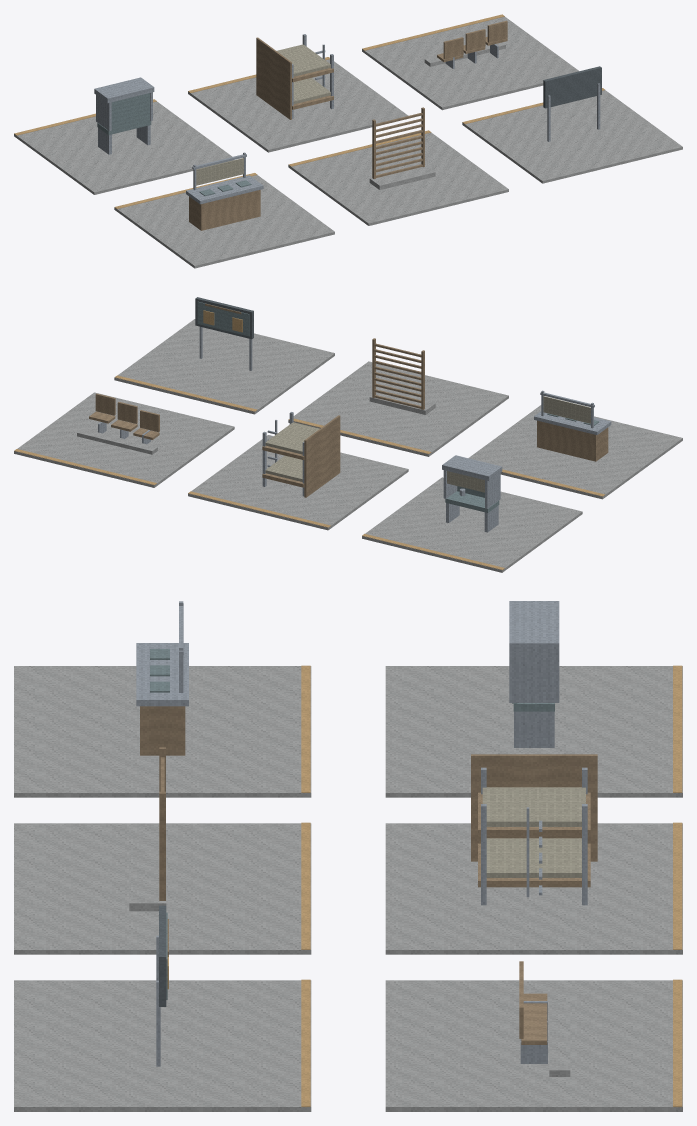
File: level_blockout_kit_college_p02.glb
3 views of the same model, one above another, from view 1: azimuth 30°, elevation 25°; view 2: azimuth 150°, elevation 25°; view 3: azimuth 270°, elevation 25° (orthographic). The views are drawn at different scales.
Visible parts, largest first — view 1: level_blockout_kit_college_p02; view 2: level_blockout_kit_college_p02; view 3: level_blockout_kit_college_p02.
Part boxes in pixels (x1,y1,x2,y2): level_blockout_kit_college_p02: (14, 14, 682, 268); level_blockout_kit_college_p02: (14, 297, 682, 572); level_blockout_kit_college_p02: (14, 601, 682, 1111).
Size of the model in its own units: 19.65 by 2.51 by 12.6.
7 materials, 7 textured.
